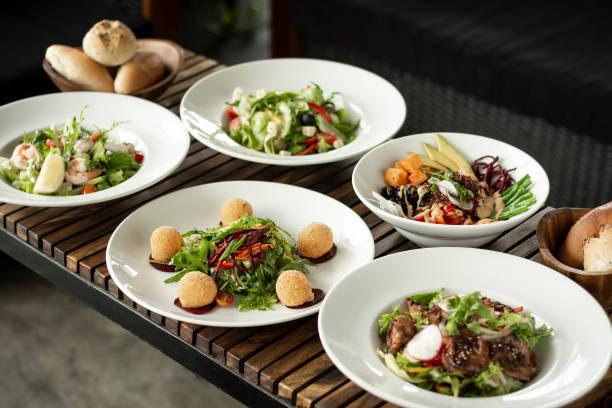Braised Crucian Carp: (319, 246, 608, 406), (106, 180, 373, 325), (176, 56, 410, 169), (352, 132, 550, 246), (0, 93, 192, 206)
